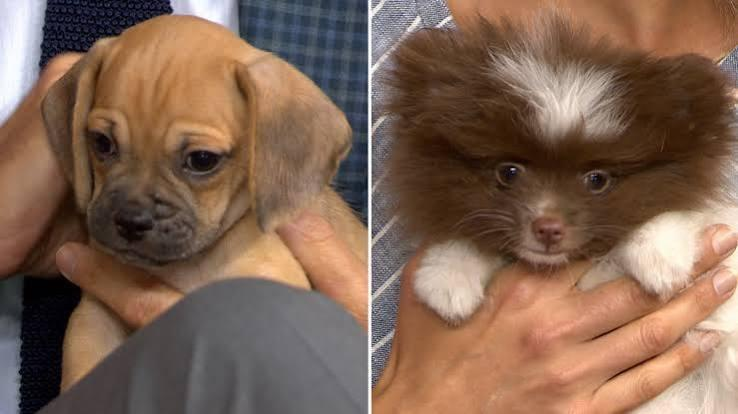puppy-dog: (377, 16, 738, 408), (32, 14, 370, 391)
